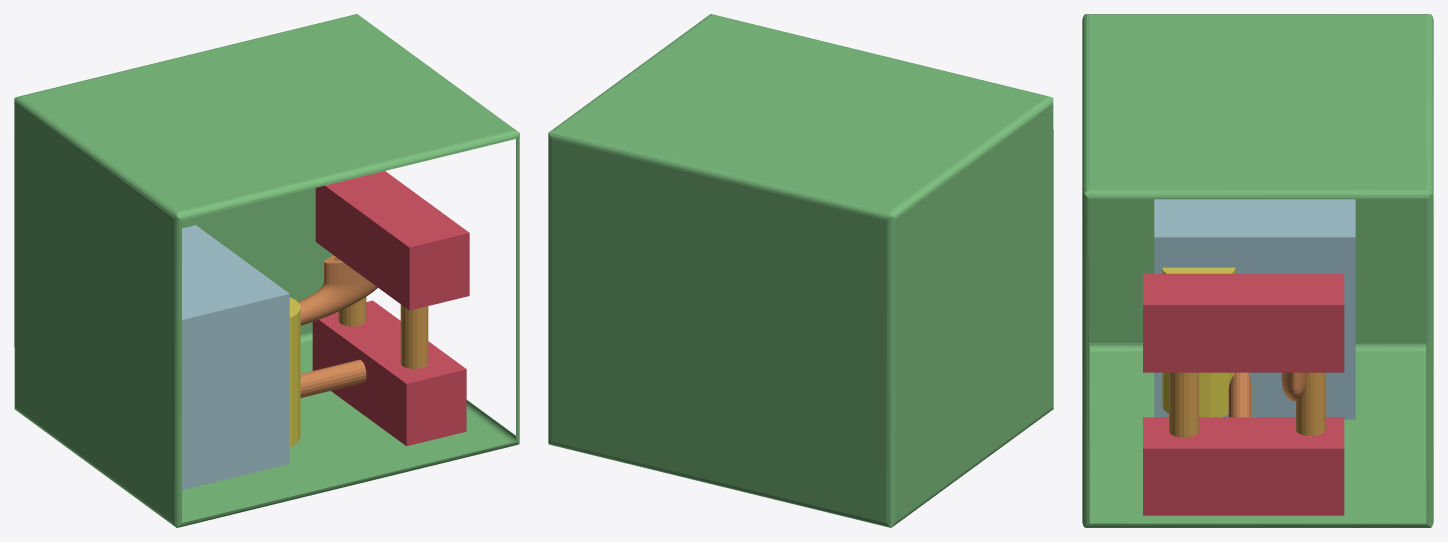
The model's file is spotTransformer.glb.
3 renders of one model, left to right at view 1: azimuth 30°, elevation 25°; view 2: azimuth 150°, elevation 25°; view 3: azimuth 270°, elevation 25°, orthographic. The views are drawn at different scales.
Visible parts, largest first — view 1: Mesh_Mesh_head_geo.001_lambert2SG.001; view 2: Mesh_Mesh_head_geo.001_lambert2SG.001; view 3: Mesh_Mesh_head_geo.001_lambert2SG.001.
Boxes of the visible parts, box(x1,y1,x2,y2) form: Mesh_Mesh_head_geo.001_lambert2SG.001: box(14, 14, 519, 527); Mesh_Mesh_head_geo.001_lambert2SG.001: box(548, 14, 1053, 527); Mesh_Mesh_head_geo.001_lambert2SG.001: box(1082, 14, 1433, 527).
Bounding box in the file's own units: 115 × 100 × 94.32.
